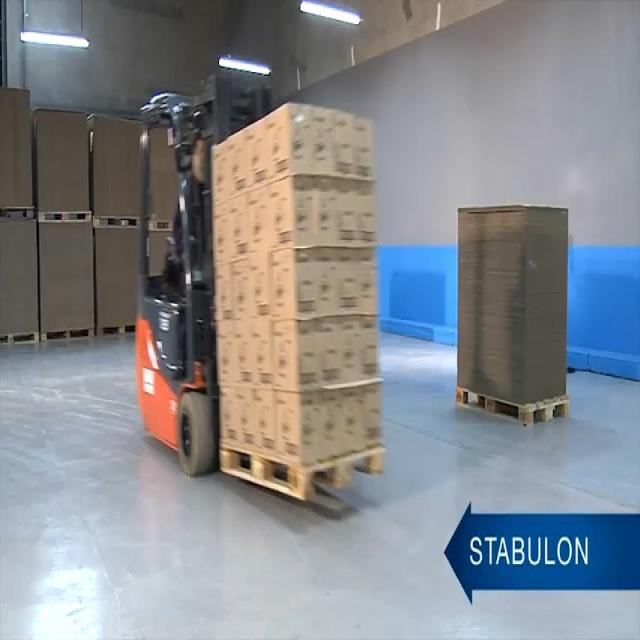Chariot elevateur: (128, 85, 228, 488)
Palette: (216, 438, 391, 502), (453, 384, 573, 428), (40, 324, 96, 348), (37, 206, 92, 226), (0, 201, 40, 226), (94, 215, 144, 233), (0, 329, 40, 351), (96, 319, 136, 341)
